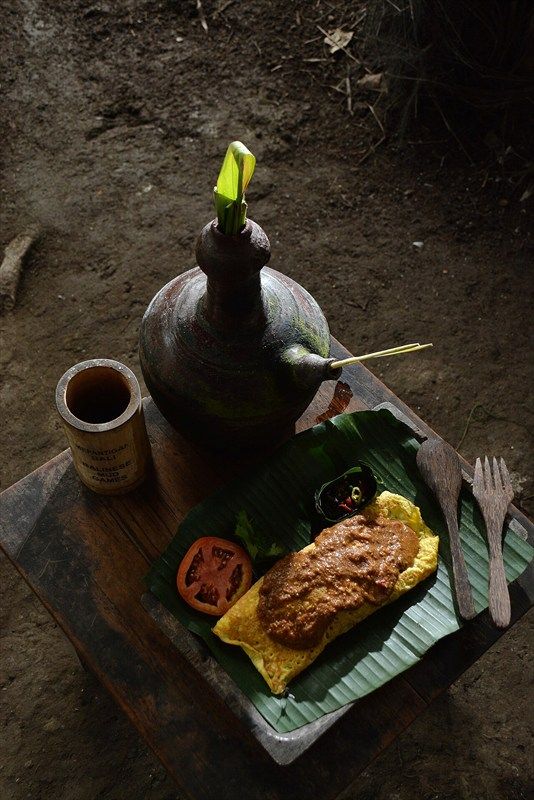Nasi Goreng: (91, 132, 506, 735)
